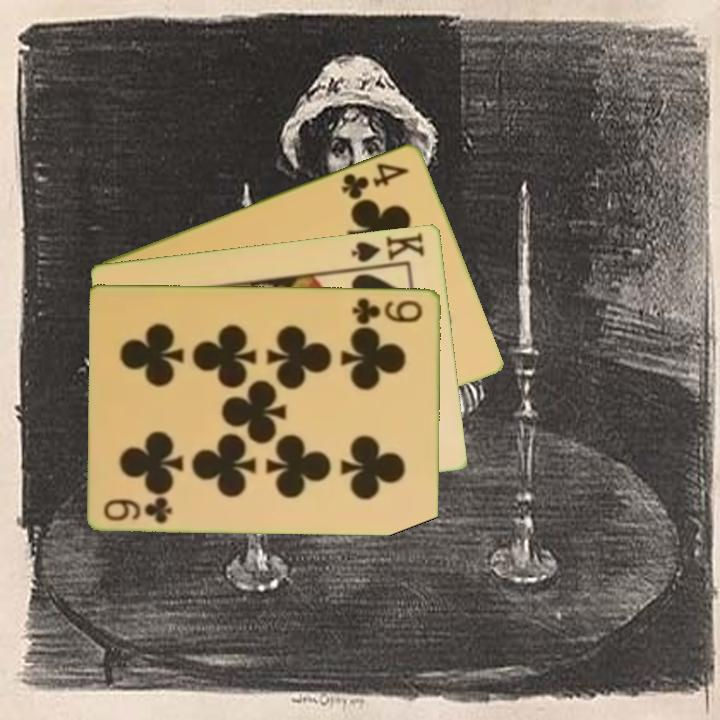4c: (338, 158, 412, 202)
9c: (101, 493, 176, 526), (349, 294, 426, 325)
Ks: (348, 228, 428, 265)
